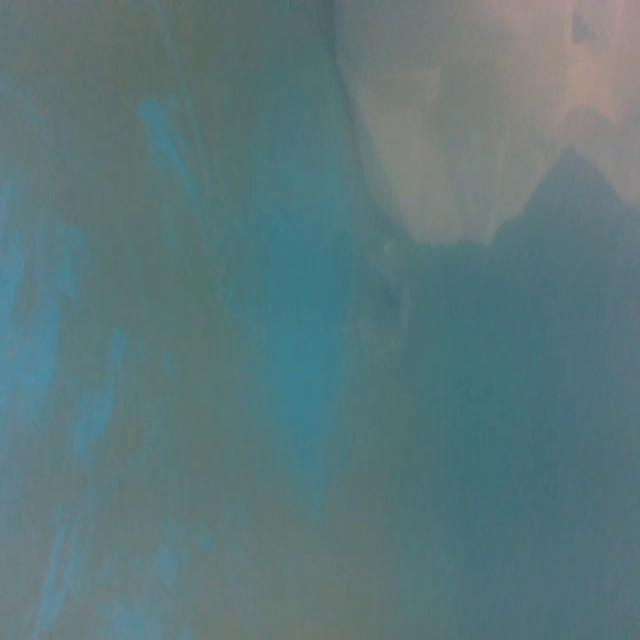plastic bags: (322, 2, 640, 249)
